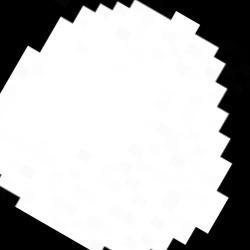spot: (1, 2, 237, 249)
